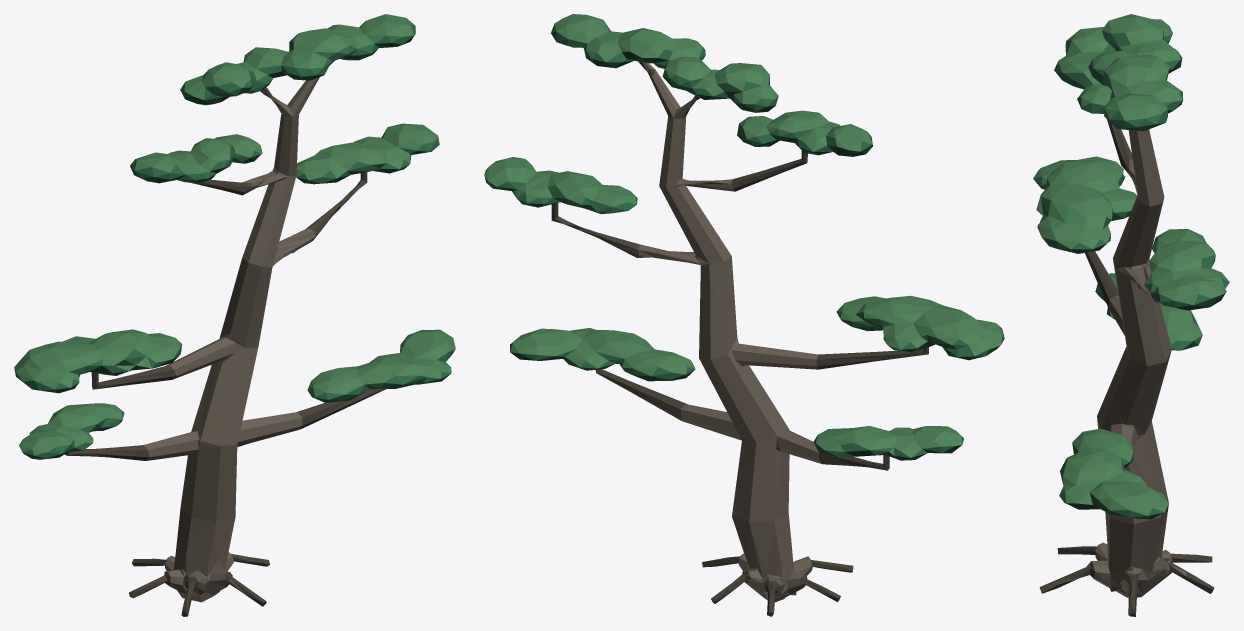
Rendered from ancient-pine-1238-lod1.glb.
3 renders of one model, left to right at view 1: azimuth 30°, elevation 25°; view 2: azimuth 150°, elevation 25°; view 3: azimuth 270°, elevation 25°, orthographic. The views are drawn at different scales.
Visible parts, largest first — view 1: n8.005, n12.005, n11.005, n9.005, n10.005; view 2: n12.005, n8.005, n11.005, n9.005, n10.005; view 3: n12.005, n8.005, n11.005, n9.005, n10.005.
Part boxes in pixels (box(x1,y1,x2,y2)): n8.005: box(143, 77, 319, 602); n12.005: box(14, 14, 455, 455); n11.005: box(14, 24, 455, 458); n9.005: box(64, 60, 385, 616); n10.005: box(16, 35, 454, 459); n12.005: box(484, 14, 1002, 457); n8.005: box(637, 62, 821, 602); n11.005: box(484, 23, 1004, 457); n9.005: box(551, 61, 928, 616); n10.005: box(484, 45, 999, 460); n12.005: box(1033, 14, 1229, 515); n8.005: box(1091, 129, 1186, 597); n11.005: box(1033, 29, 1229, 517); n9.005: box(1039, 119, 1214, 616); n10.005: box(1034, 33, 1225, 519).
Bounding box in the file's own units: 4.9 × 5.41 × 1.6.
